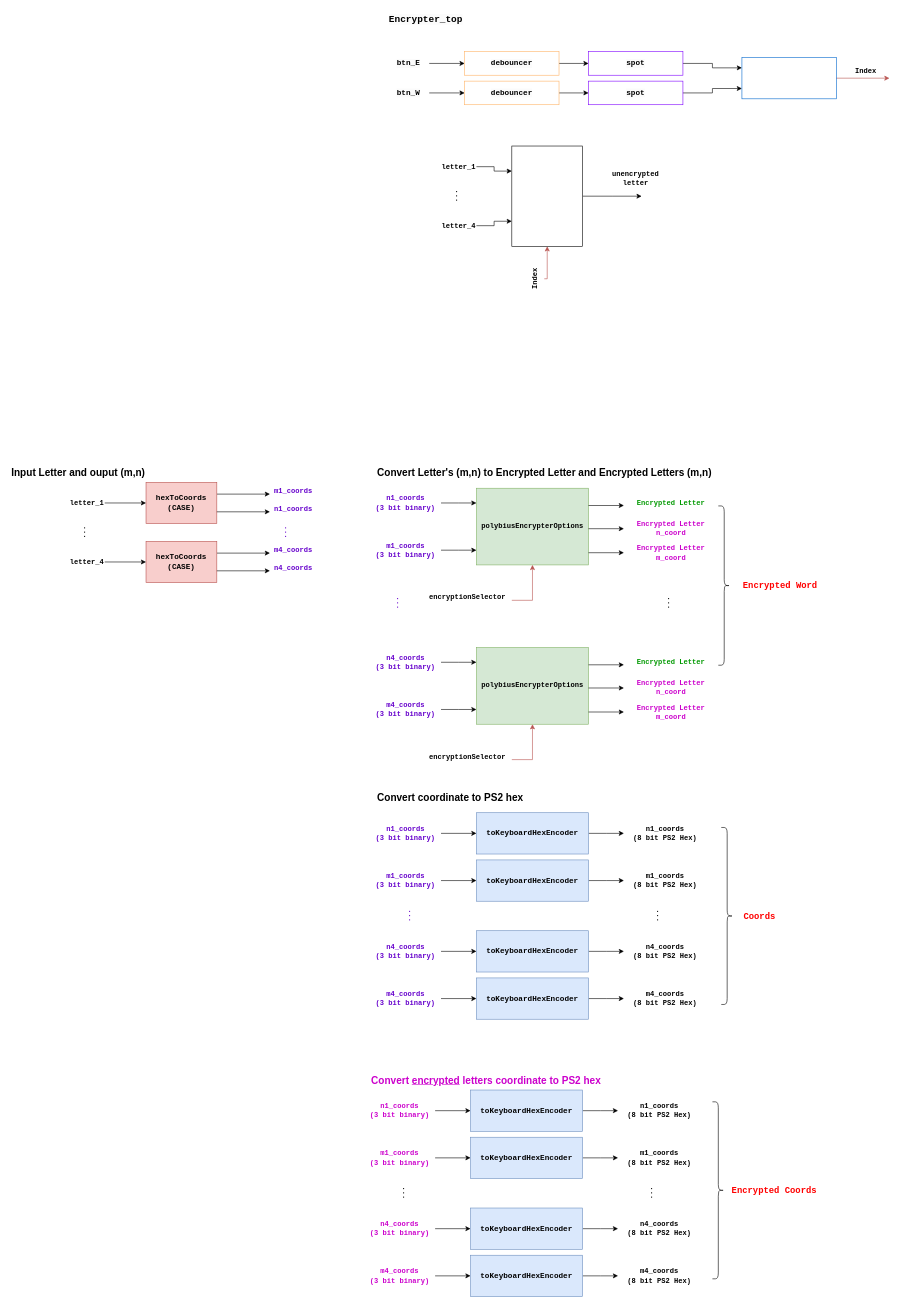
The diagram is 904 pixels wide and 1307 high, and some of its shapes have lost their labels. The shapes that lost their labels are listed below. From the top down, each one's box as (x1, y1, x2, y2) in pixels, then its label:
(741, 57, 836, 99): eastWestShifter
(511, 145, 583, 246): CASE
